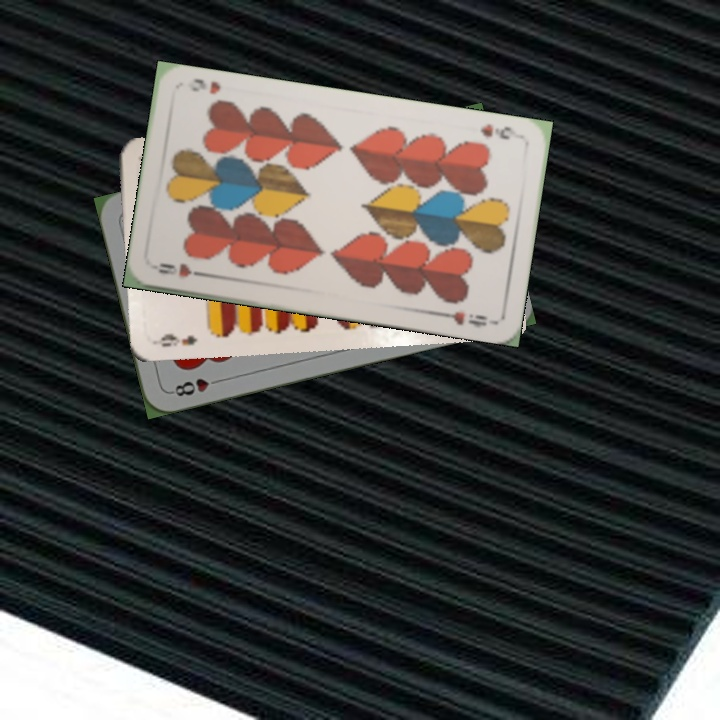E9: (153, 330, 200, 349)
H8: (166, 374, 225, 399)
H9: (154, 259, 210, 281), (476, 119, 524, 143)
